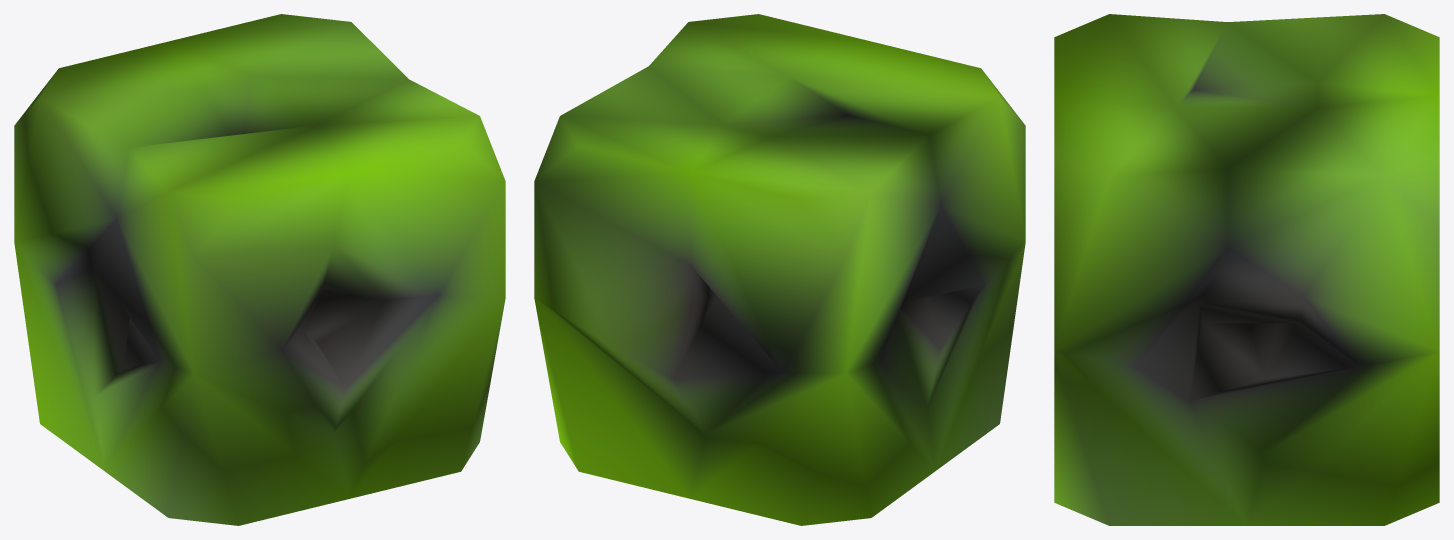
Rendered from junction_box_lod6.glb.
The picture shows the model from 3 angles, left to right: view 1: azimuth 30°, elevation 25°; view 2: azimuth 150°, elevation 25°; view 3: azimuth 270°, elevation 25°; orthographic projection. The views are drawn at different scales.
Parts seen in each view (by area): view 1: junction_box; view 2: junction_box; view 3: junction_box.
Boxes of the visible parts, left/top/right/bottom form: junction_box: left=14, top=14, right=505, bottom=525; junction_box: left=534, top=14, right=1025, bottom=525; junction_box: left=1054, top=14, right=1439, bottom=525.
Size of the model in its own units: 2 by 2 by 2.
